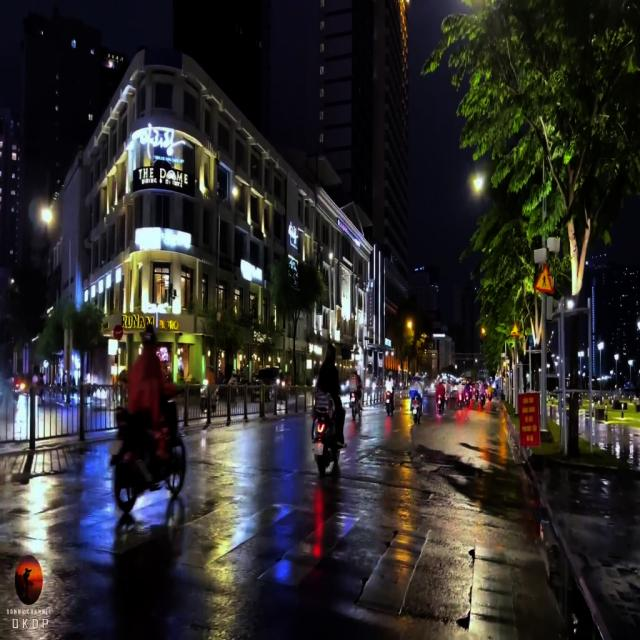cam_xe_di_nguoc_chieu: (113, 326, 124, 340)
chu_y_nguoi_di_bo_cat_ngang: (534, 261, 554, 294)
duong_co_song_map_mo_nhan_tao: (510, 321, 520, 336)
